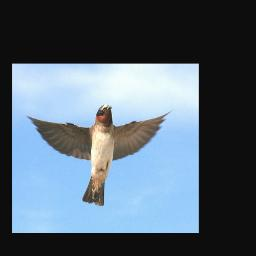Swallow: (25, 103, 175, 207)
